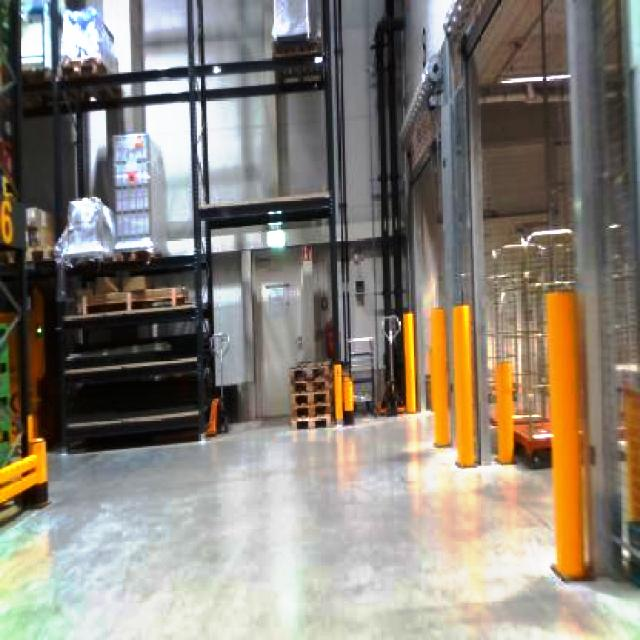ground: (0, 405, 638, 638)
pallet: (55, 283, 211, 452), (0, 285, 48, 537), (488, 411, 626, 468), (0, 414, 48, 542), (617, 383, 638, 594), (489, 412, 552, 468), (0, 309, 22, 462), (288, 360, 335, 429), (77, 285, 186, 314)
